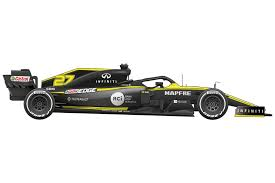f1_car: (1, 58, 274, 130)
